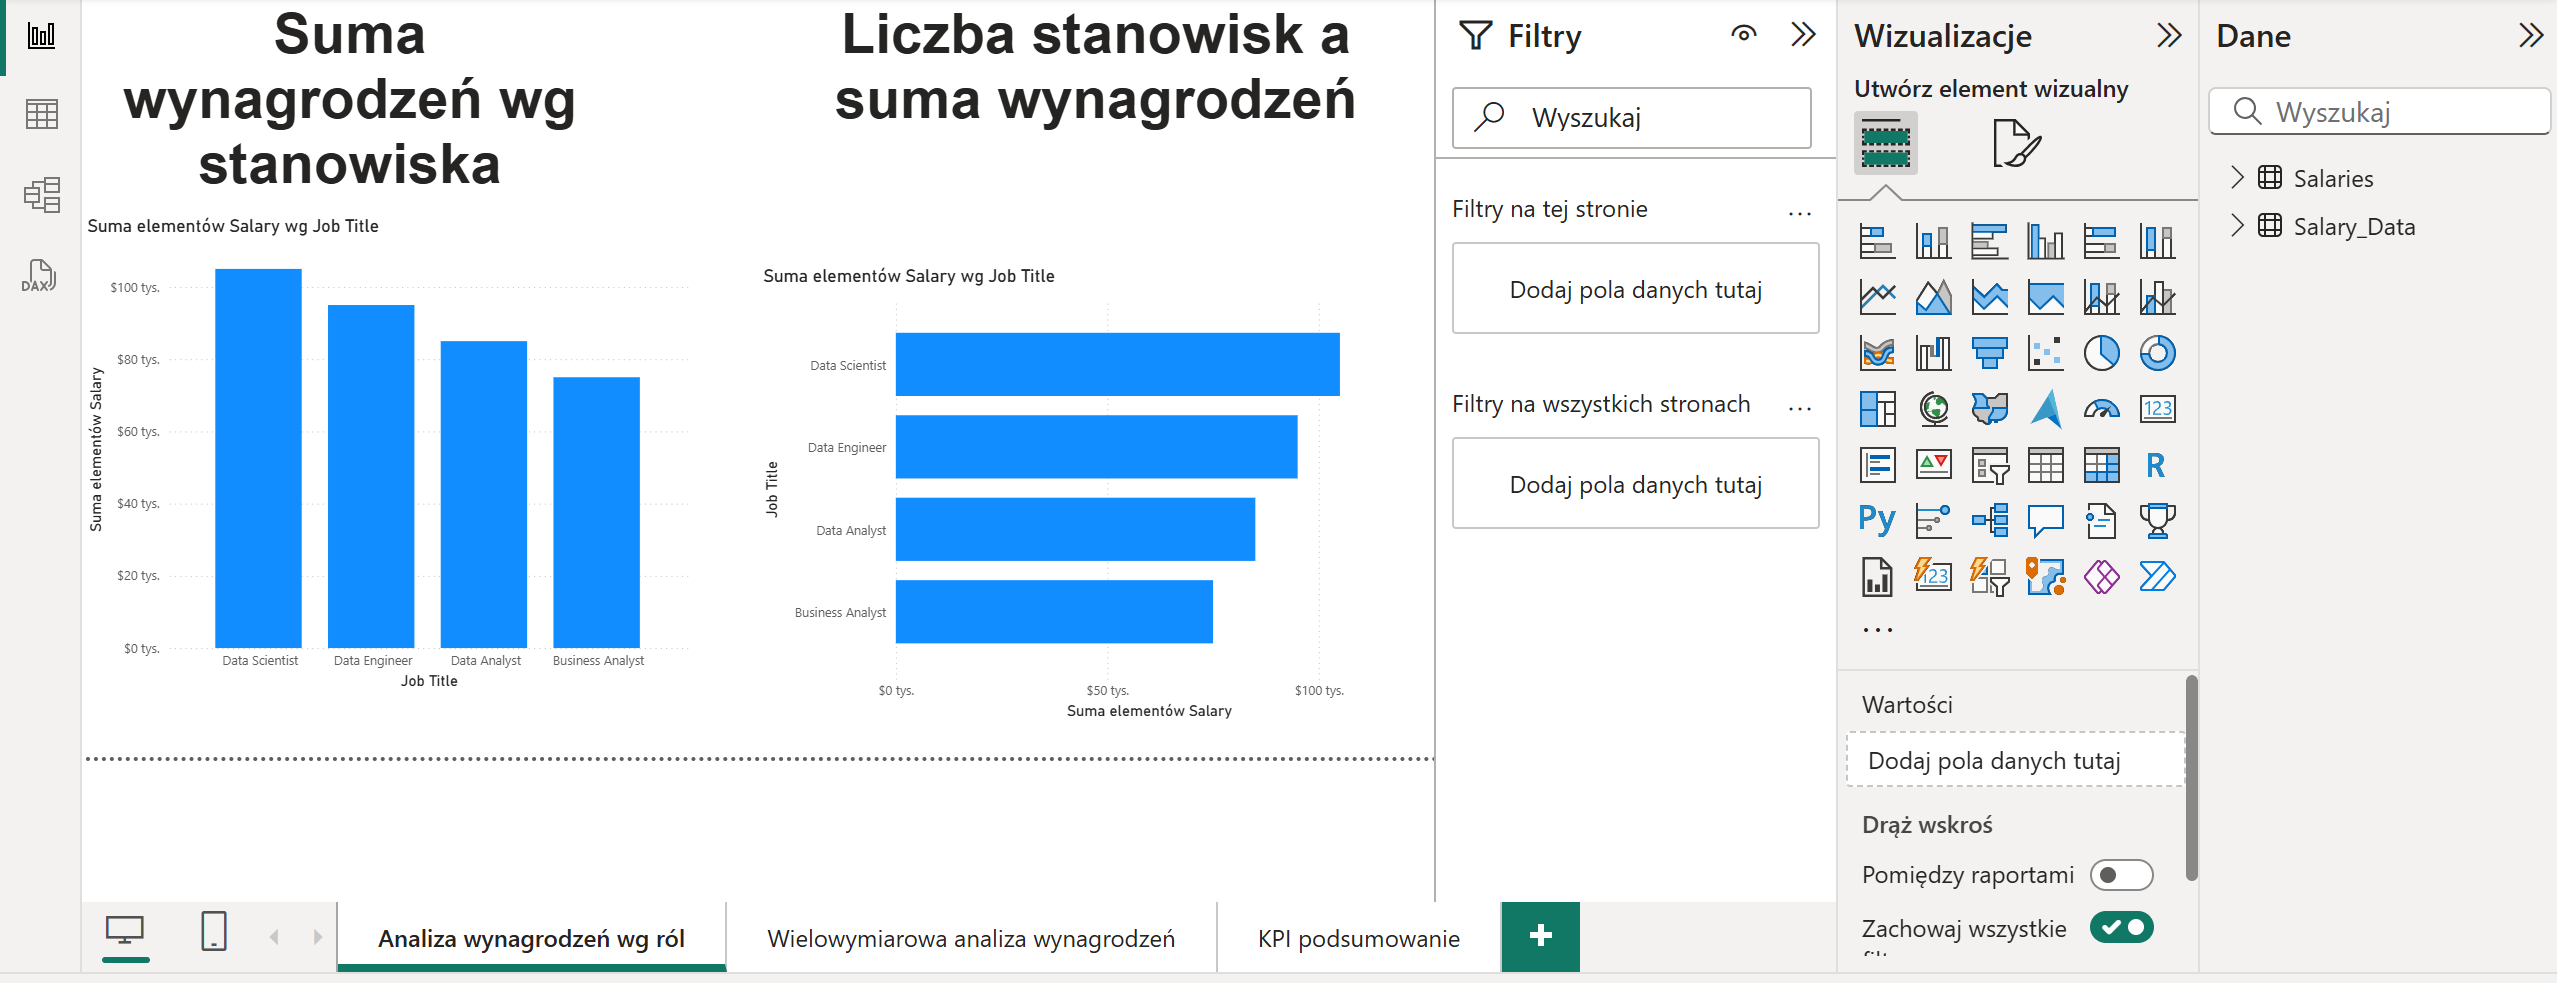

The page's visual inventory and layout, read from the dashboard file:
{"tool":"powerbi","page":{"name":"Analiza wynagrodzeń wg ról","canvas":[1280,720],"ordinal":0},"visuals":[{"type":"columnChart","fields":{"Category":["Salary_Data.Job Title"],"Y":["Sum(Salary_Data.Salary)"]},"box":[0,208.3,579.4,452.5],"z":0},{"type":"clusteredBarChart","fields":{"Category":["Salary_Data.Job Title"],"Y":["Sum(Salary_Data.Salary)"]},"box":[640,255.6,640,433.6],"z":1000},{"type":"textbox","box":[0,0,507.5,208.3],"z":2000},{"type":"textbox","box":[640,0,640,208],"z":3000}]}

Visuals, with their boxes on the page's 1280x720 design canvas (x1, y1, x2, y2). These are canvas units, not pixel positions in the 2557x983 screenshot, which may show the page scaled, cropped or inside an application window:
columnChart - Salary_Data.Job Title x Sum(Salary_Data.Salary): [x1=0, y1=208, x2=579, y2=661]
clusteredBarChart - Salary_Data.Job Title x Sum(Salary_Data.Salary): [x1=640, y1=256, x2=1280, y2=689]
textbox: [x1=0, y1=0, x2=508, y2=208]
textbox: [x1=640, y1=0, x2=1280, y2=208]
